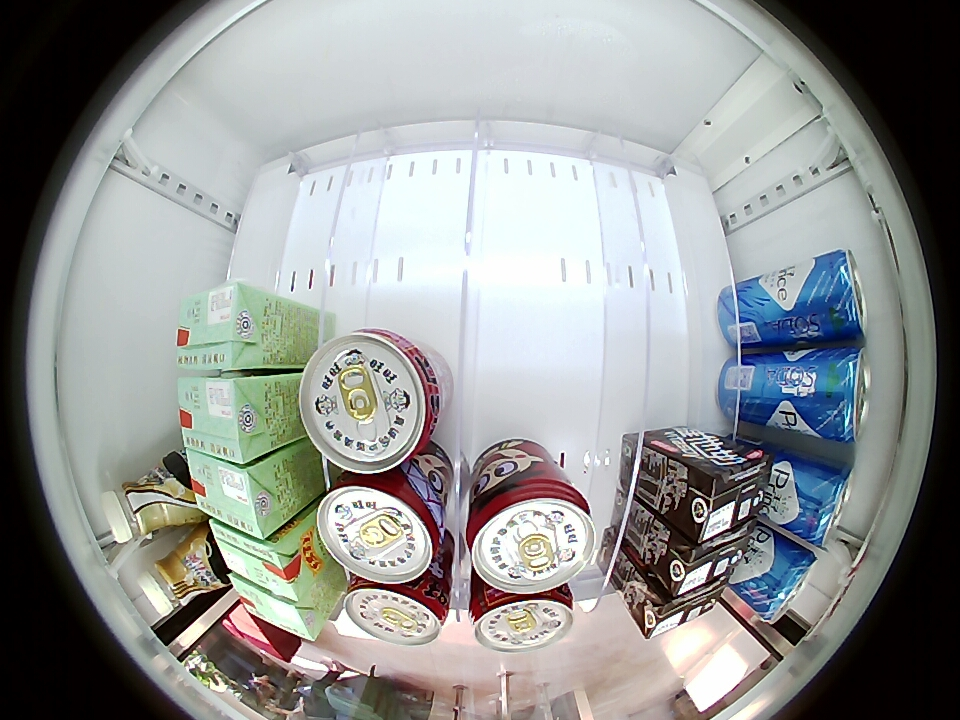kafei: (100, 464, 196, 544), (137, 532, 222, 616)
qingdaowangzi-2: (807, 345, 871, 443), (744, 541, 819, 623), (801, 249, 867, 341), (789, 458, 855, 545)
wanglaoji: (186, 450, 286, 540), (177, 373, 273, 466), (176, 282, 270, 374), (210, 521, 316, 601), (227, 575, 325, 643)
wangzainiunai: (299, 327, 442, 474), (465, 467, 596, 593), (316, 467, 445, 584), (342, 570, 451, 647), (470, 580, 575, 654)
weitanai2: (675, 446, 775, 544), (659, 519, 762, 597), (637, 575, 729, 640)
